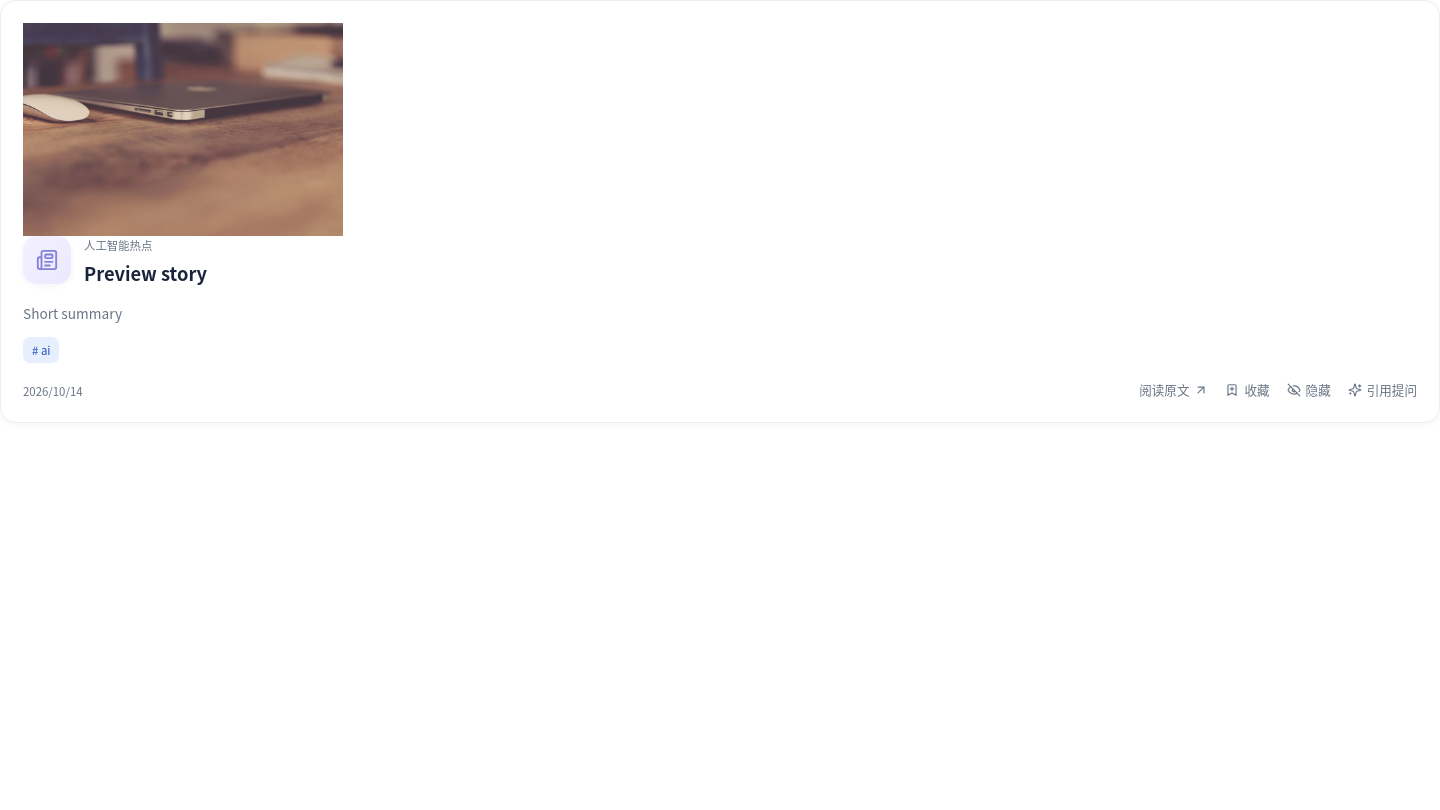
Test: feed preview blocks duplicate saves and shows save failures before retry
What coordinates should you click on to do the following:
click the heading "Preview story"
I would click on:
 (146, 273)
Its box is [84,260,207,287].
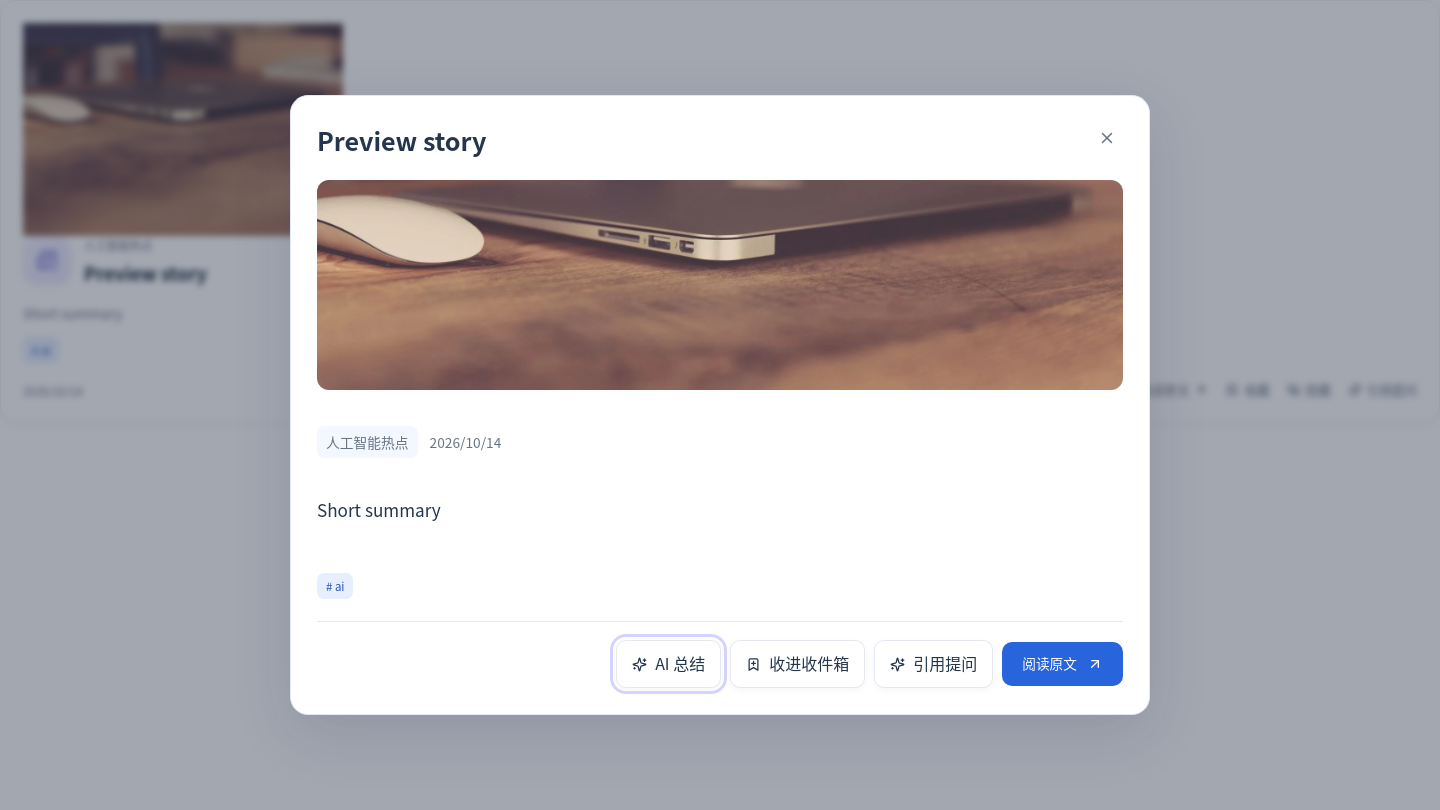
What coordinates should you click on to do the following:
click the button "收进收件箱"
I would click on:
 (798, 664)
Its box is [730,640,865,688].
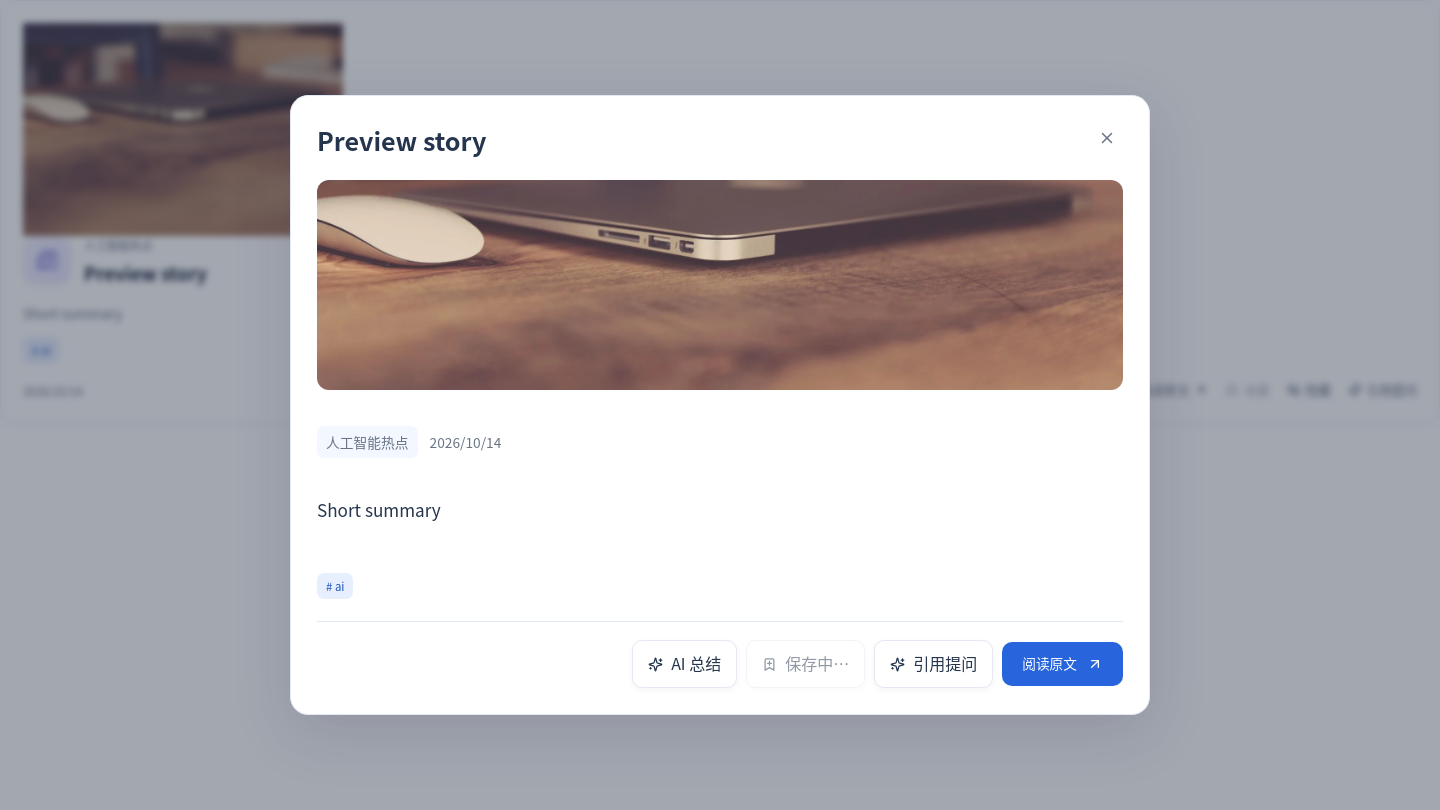
Result: the button named "收进收件箱" is disabled
Result: the button named "收进收件箱" shows "保存中"
What coordinates should you click on to do the following:
click the button named "收进收件箱"
I would click on:
 (806, 664)
Its box is [746,640,865,688].
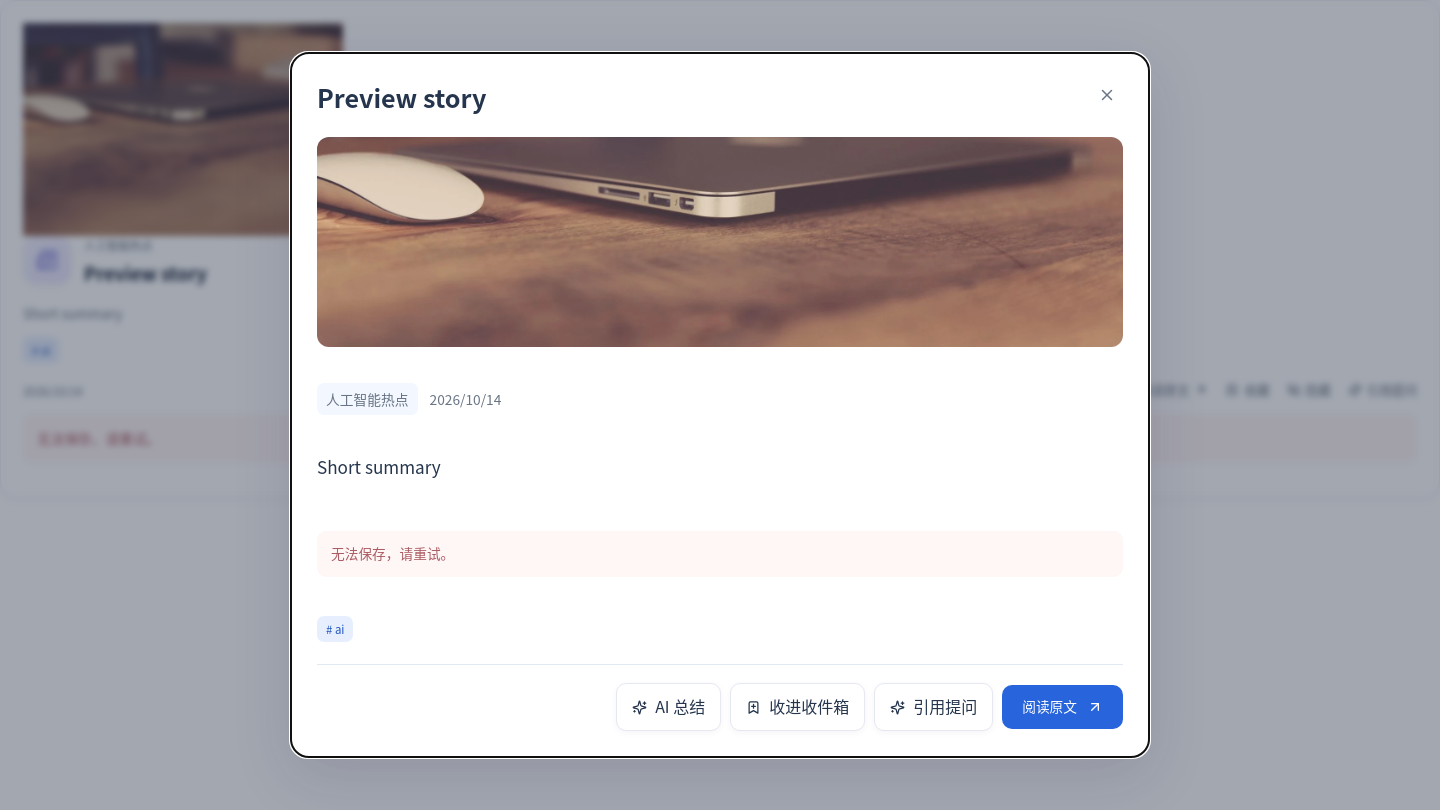
Result: the message reads "无法保存，请重试。" at [331,543,454,563]
Result: the button "收进收件箱" is enabled
What coordinates should you click on to do the following:
click the button "收进收件箱"
I would click on:
 (798, 707)
Its box is [730,683,865,731].
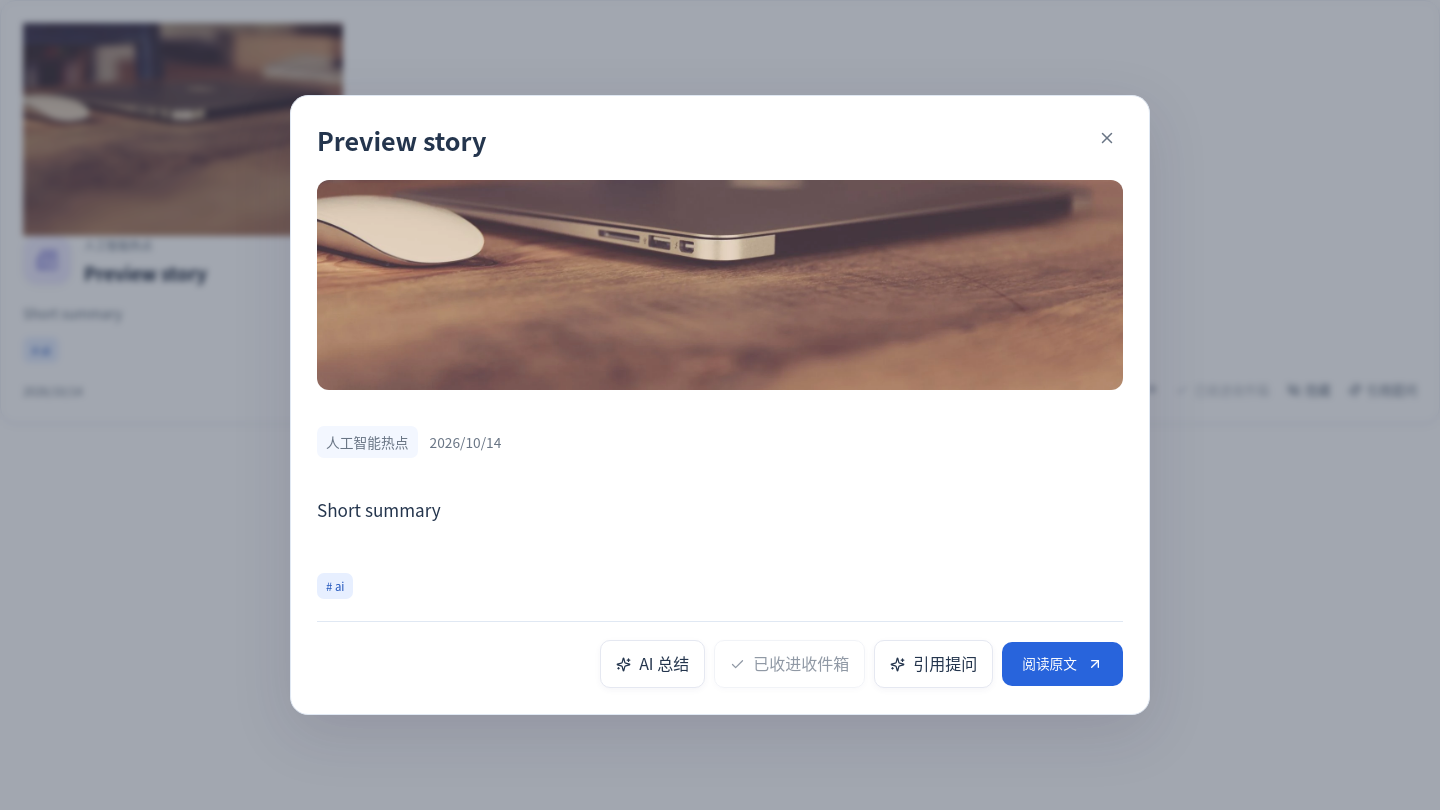
Result: the button "已收进收件箱" is disabled at [714,640,865,688]
Result: the message "无法保存，请重试。" is gone
